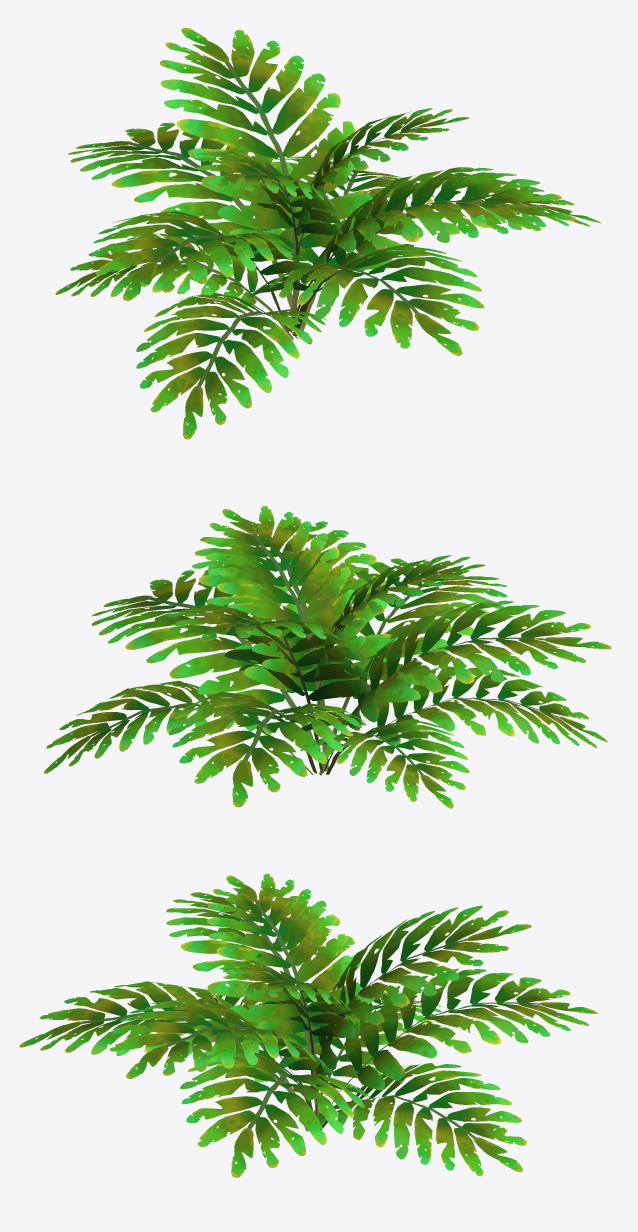
Rendered from bush_02.fbx.
The picture shows the model from 3 angles, top to bottom: view 1: azimuth 30°, elevation 25°; view 2: azimuth 150°, elevation 25°; view 3: azimuth 270°, elevation 25°; orthographic projection. The views are drawn at different scales.
Parts seen in each view (by area): view 1: bush_01.025; view 2: bush_01.025; view 3: bush_01.025.
Part boxes in pixels (bbox=[...]): bush_01.025: bbox=[55, 27, 601, 439]; bush_01.025: bbox=[44, 506, 611, 808]; bush_01.025: bbox=[19, 873, 597, 1177].
Size of the model in its own units: 469 by 188 by 464.
